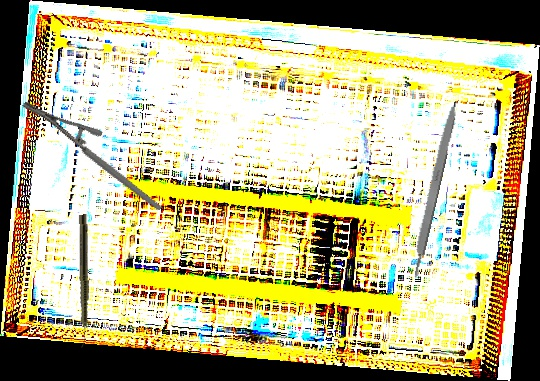Handpiece: (77, 214, 90, 348)
Needle Holder: (20, 70, 163, 243)
Scalpel Handle: (407, 99, 460, 279)
